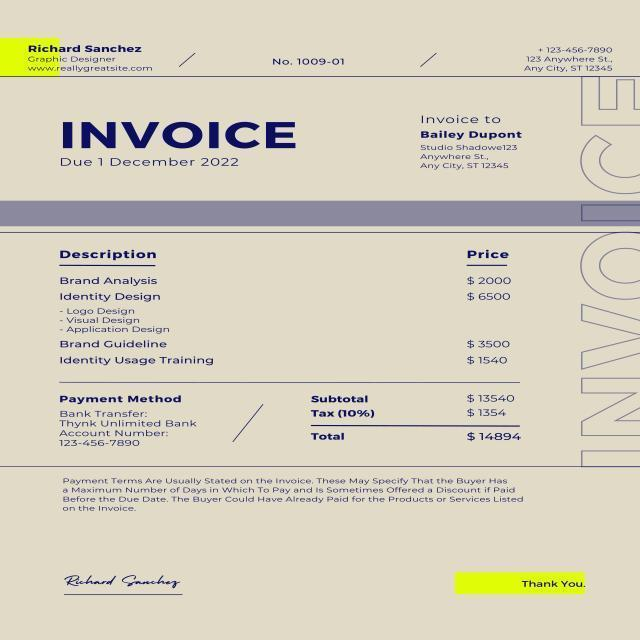ROI: (47, 237, 538, 368), (51, 472, 527, 525), (292, 380, 536, 462), (45, 378, 202, 457), (406, 99, 530, 184), (57, 112, 304, 151), (16, 35, 172, 81), (54, 561, 195, 605), (445, 565, 598, 604), (515, 33, 627, 80), (59, 155, 251, 173), (269, 49, 352, 75)
